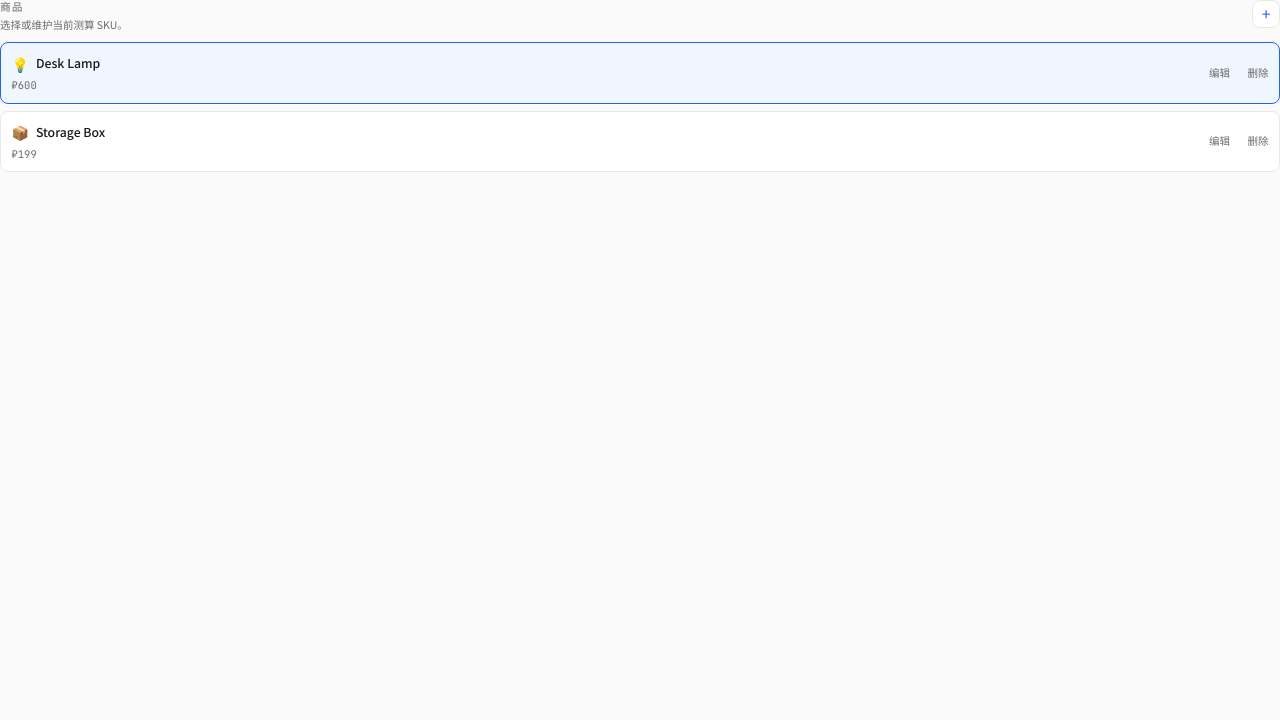
it: ProductManager › opens edit mode from double click and explicit edit button
The width and height of the screenshot is (1280, 720).
Double-click the button "💡 Desk Lamp ₽600" at (68,63), box x1=4 y1=46 x2=1198 y2=99
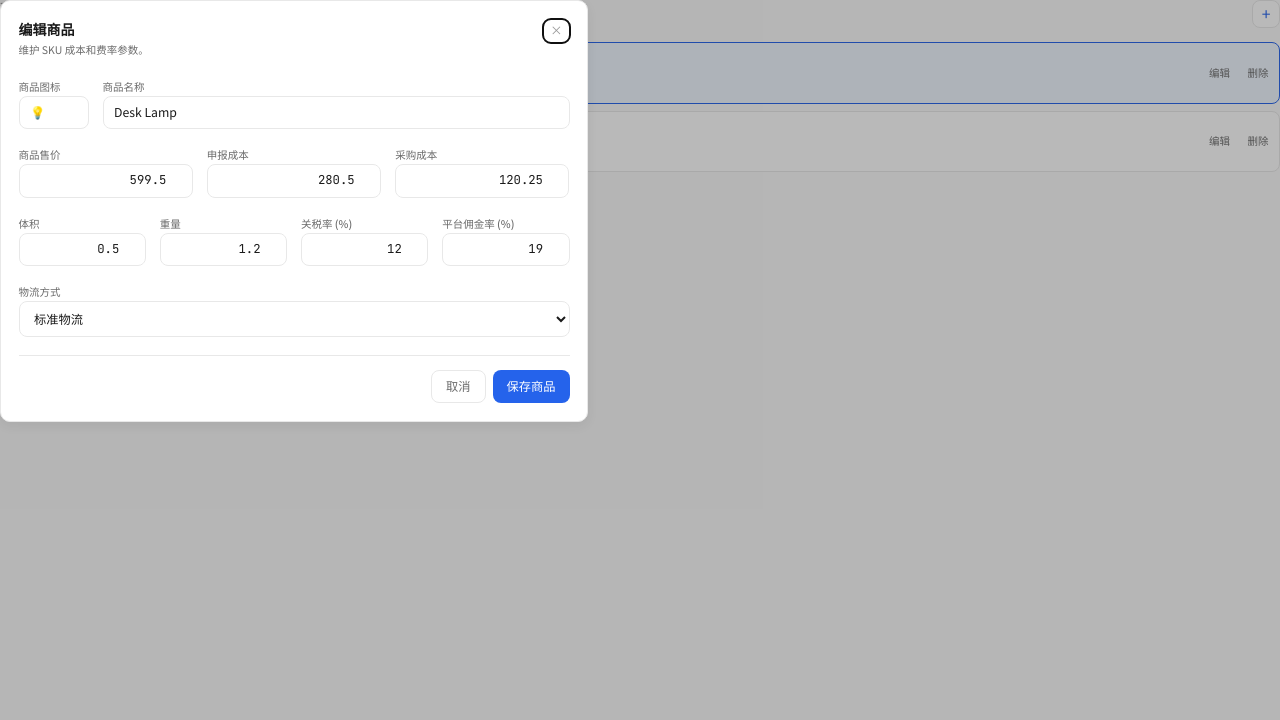
Expected: the field labelled "商品名称" holds "Desk Lamp", x1=102 y1=96 x2=570 y2=129
Click the button "取消" at (458,386), box x1=431 y1=370 x2=486 y2=403
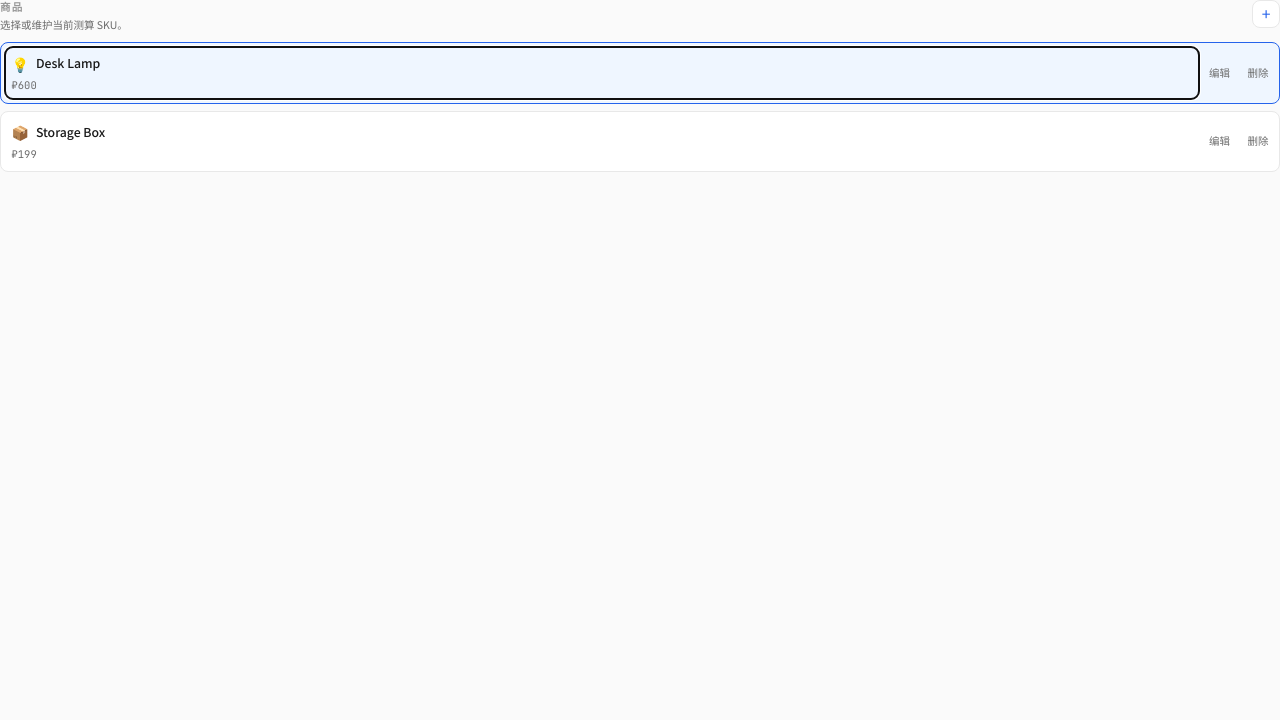
Click the button with aria-label "编辑 Storage Box" at (1220,141), box x1=1202 y1=127 x2=1237 y2=155
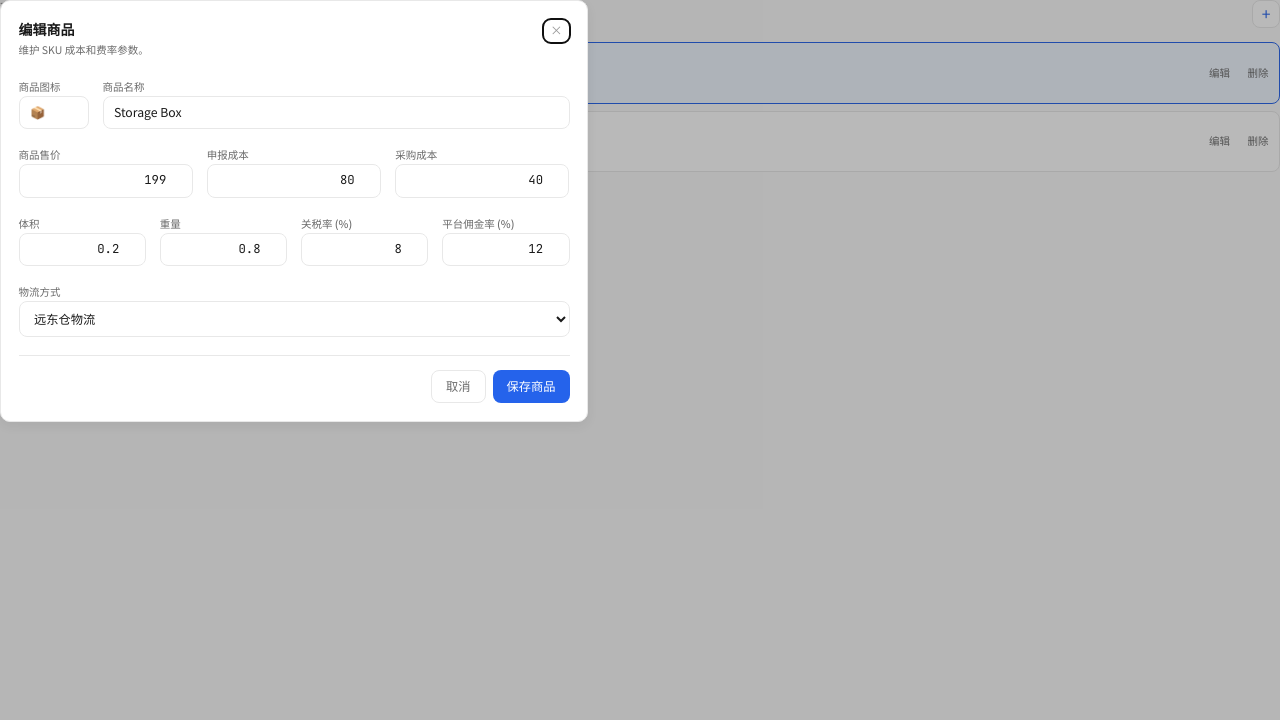
Expected: the field labelled "商品名称" holds "Storage Box", x1=102 y1=96 x2=570 y2=129
